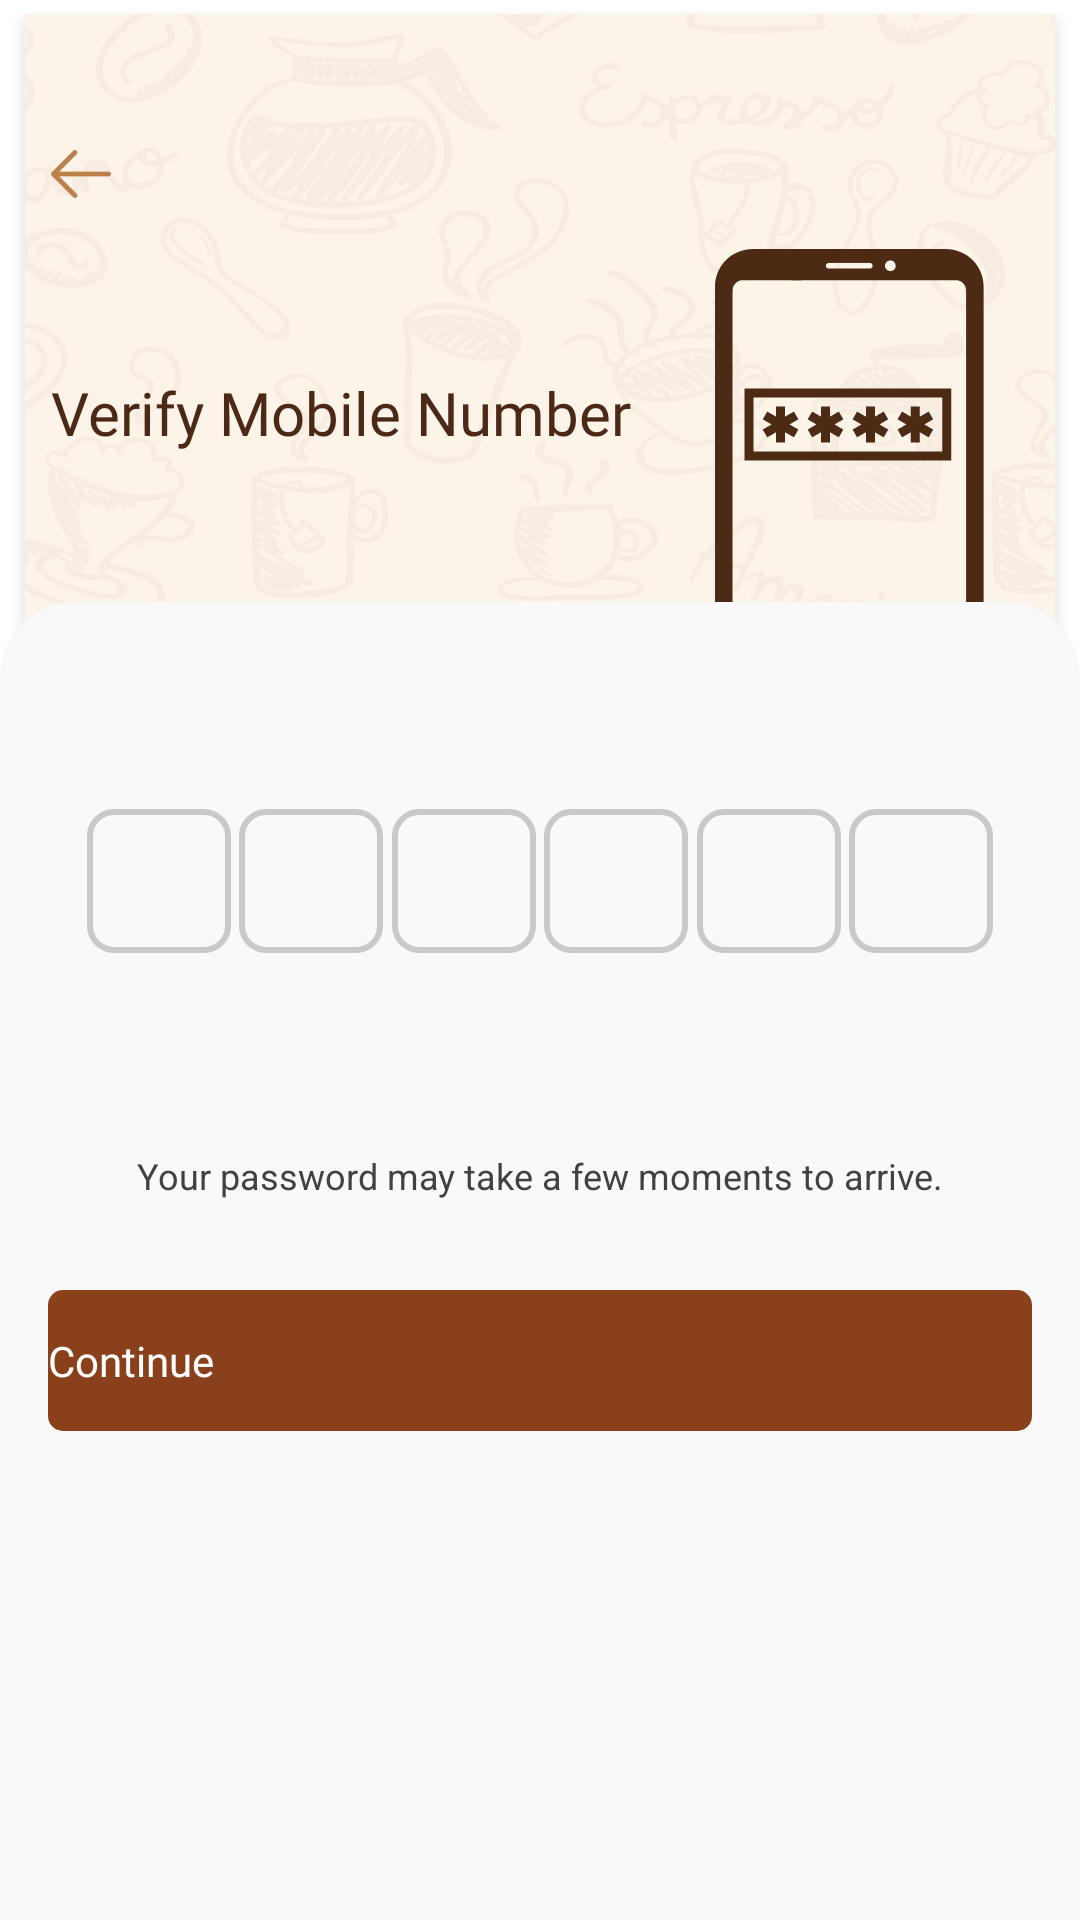

Point at icon controls on the screen. Image size 1080*1920, points as (x=x, y=y).
back: (x=81, y=174)
